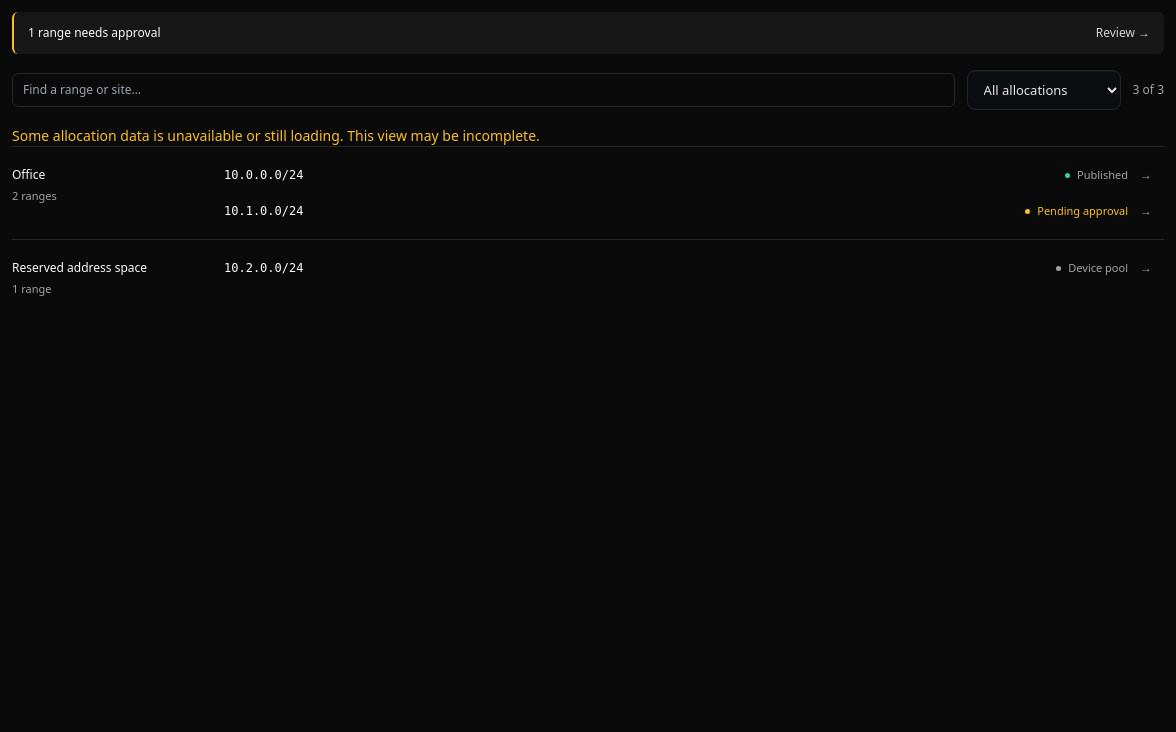
filters ranges and removes details for hidden selections
Click the button "10.0.0.0/24 Published →" at [264, 175], box top-left (212, 157), bottom-right (1164, 193)
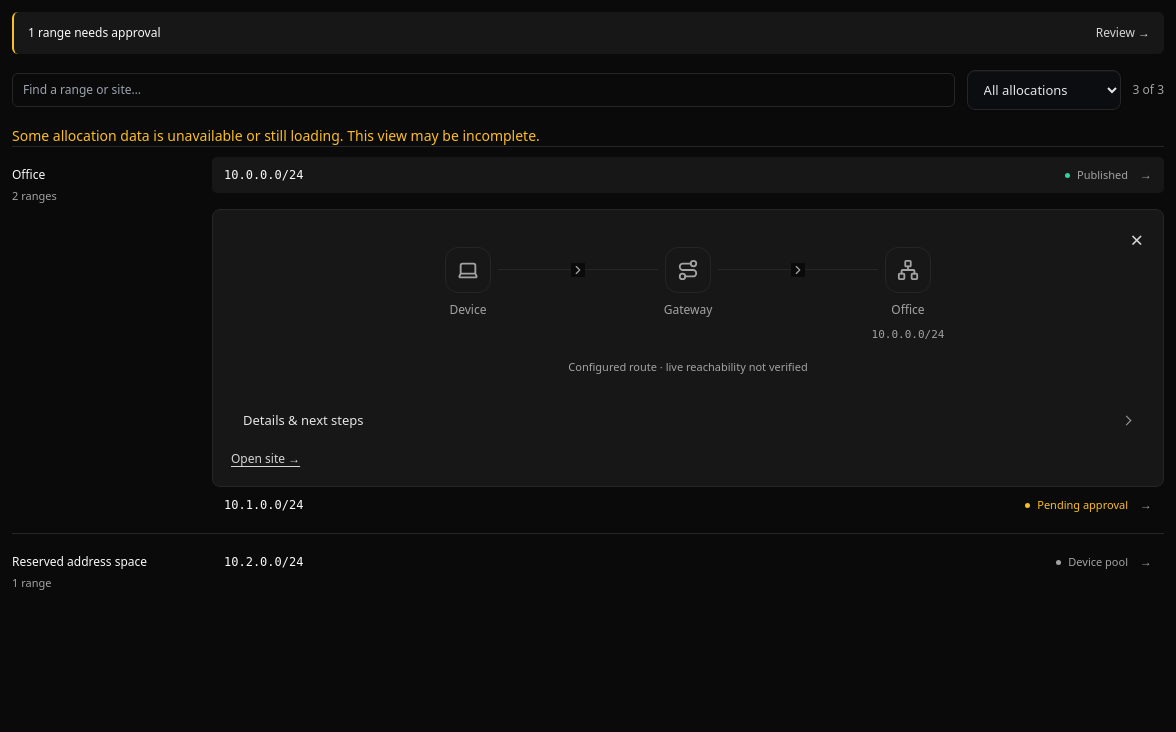
Select "Pending approval" in the dropdown named "Filter routing graph" at [1044, 90], box top-left (967, 70), bottom-right (1121, 110)
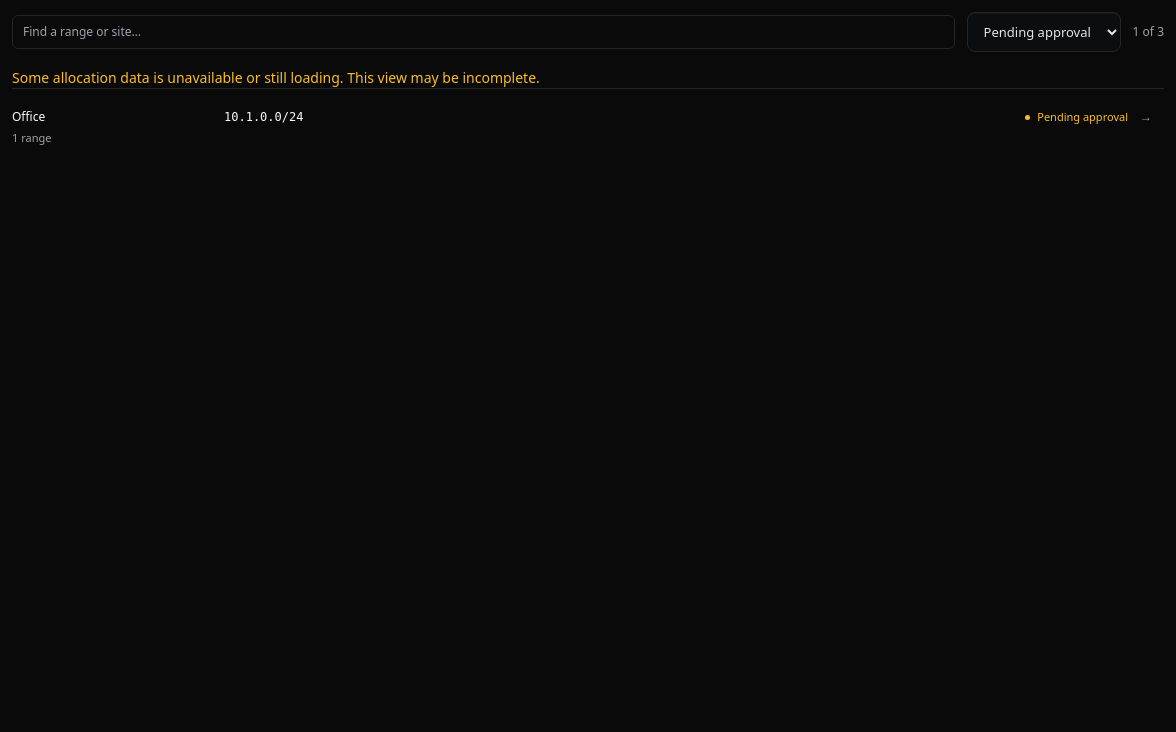
Expected: the text "This view may be incomplete" is shown, top-left (12, 68), bottom-right (540, 87)
Expected: the button "10.0.0.0" is gone
